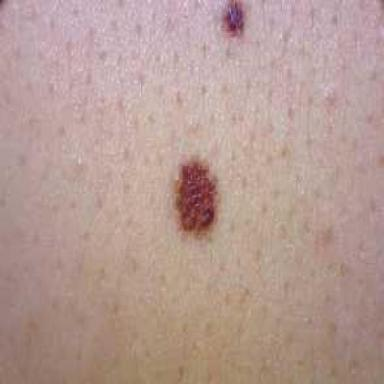Melanoma: (176, 161, 217, 234), (223, 0, 244, 35)
